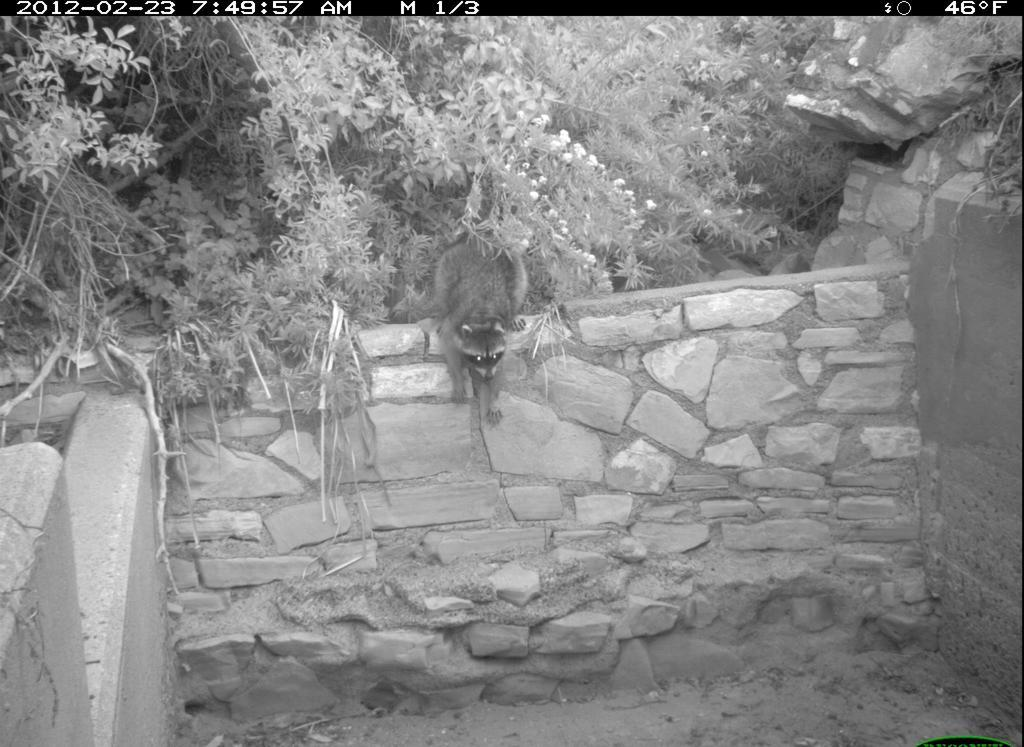raccoon: (411, 231, 537, 431)
